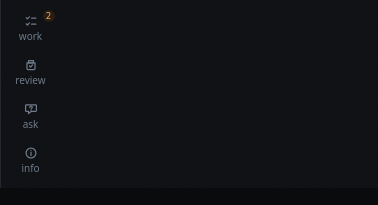
Test: desktop InspectorRail › visibly labels the session subagent-model control (#563)
The image size is (378, 205).
Step 1. Click the button "work 2" → (30, 28), box [4,8,56,48]
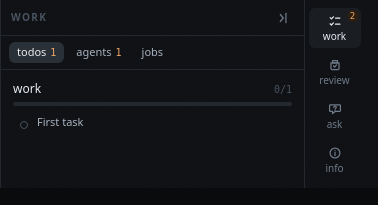
Step 2. Click the tab "agents 1" → (99, 52), box [68,42,130,62]
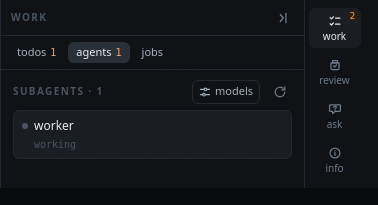
Expected: the text "models" is shown, [215,83,253,100]
